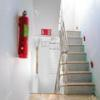stairs: (59, 26, 96, 96)
